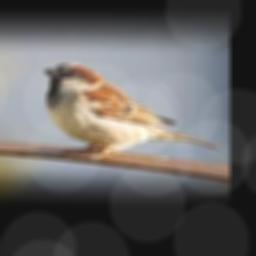Sparrow: (44, 63, 220, 159)
